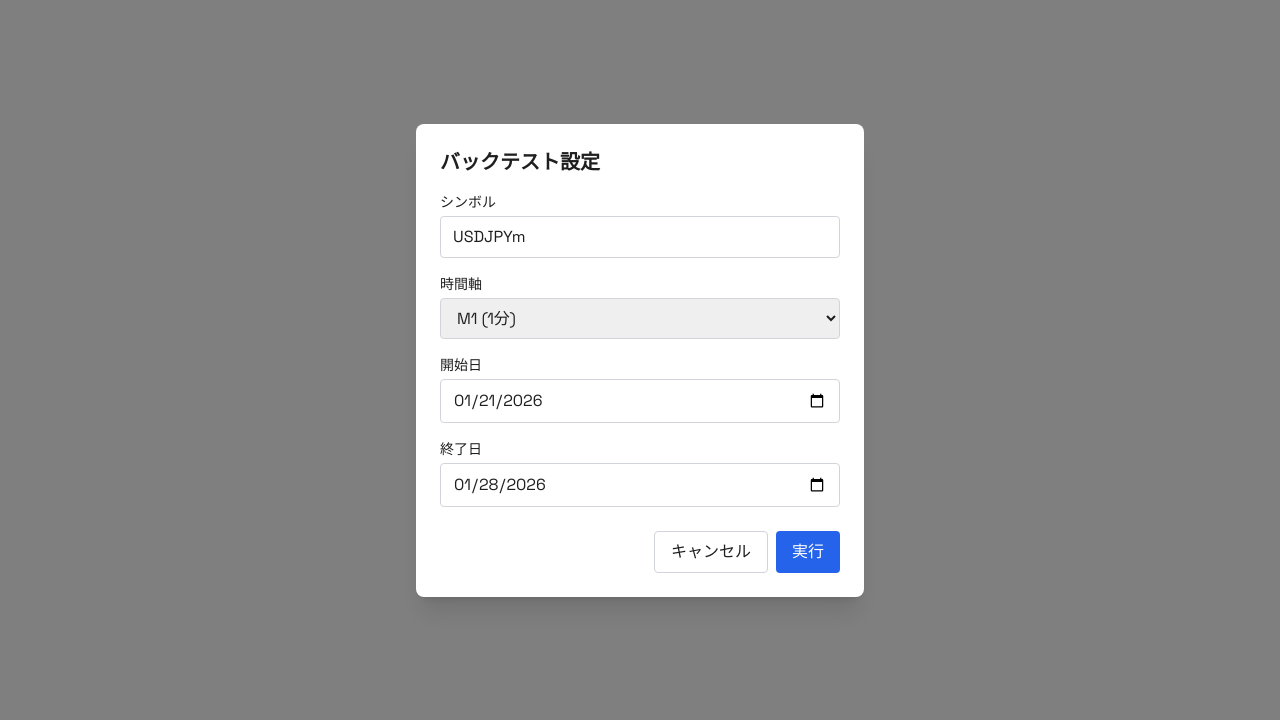
Test case: BacktestConfigDialog › Error Handling › should clear errors on successful submit
# First, trigger an error
Step 1. Clear the field labelled "シンボル" → (640, 236), box 440,216 -> 840,258
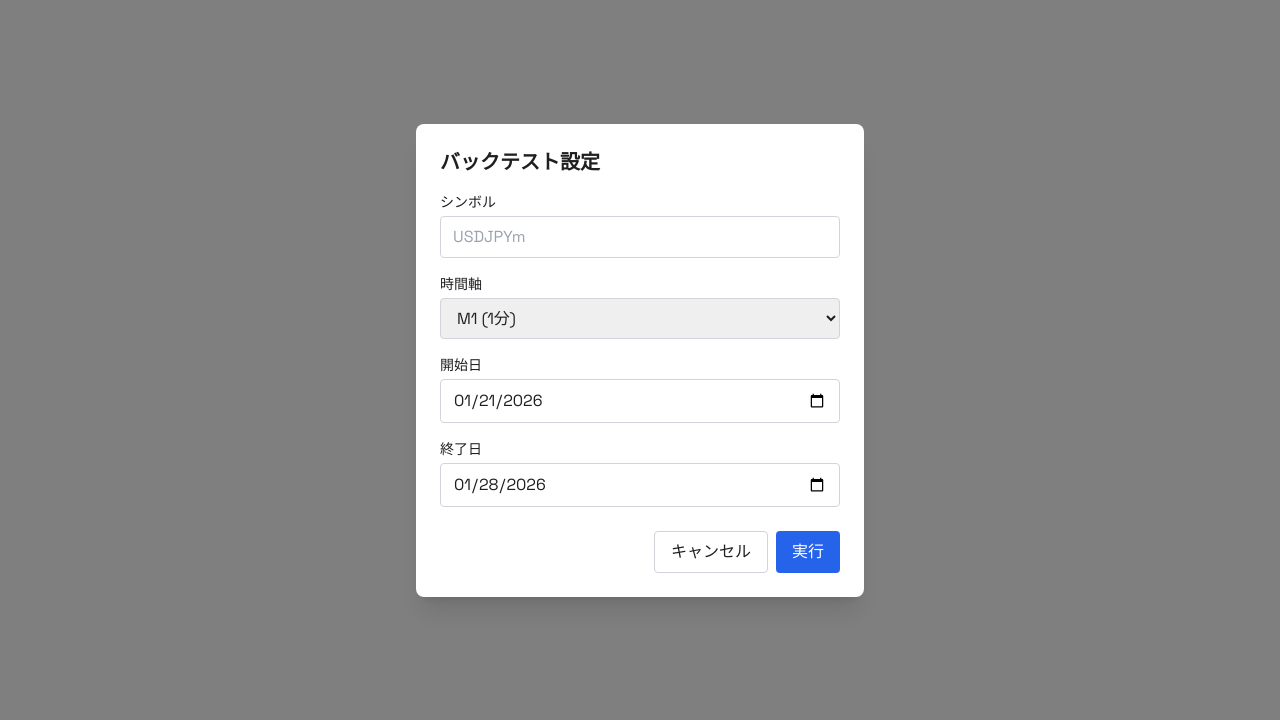
Step 2. Click the button "実行" → (808, 552), box 776,530 -> 840,572
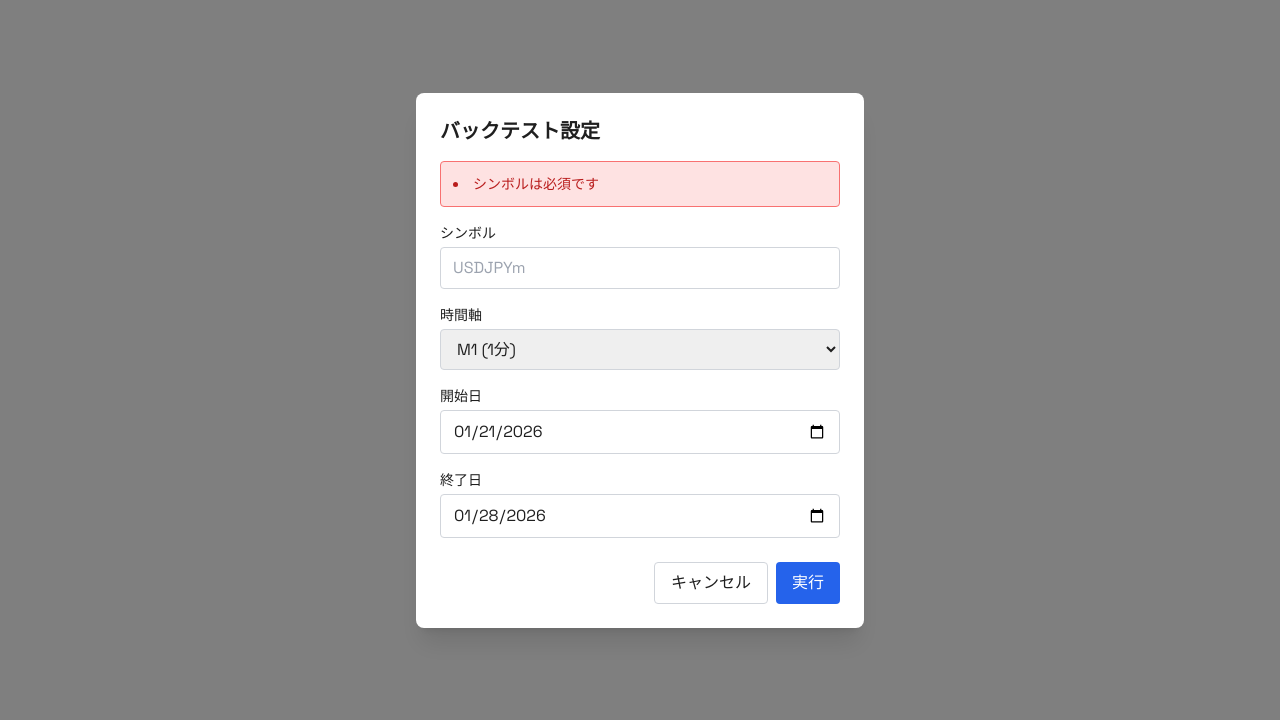
Now the list item "シンボルは必須です" is shown, box 473,174 -> 599,192
# Fix the error and submit again
Step 3. Type "USDJPY" into the field labelled "シンボル" → (640, 268), box 440,246 -> 840,288
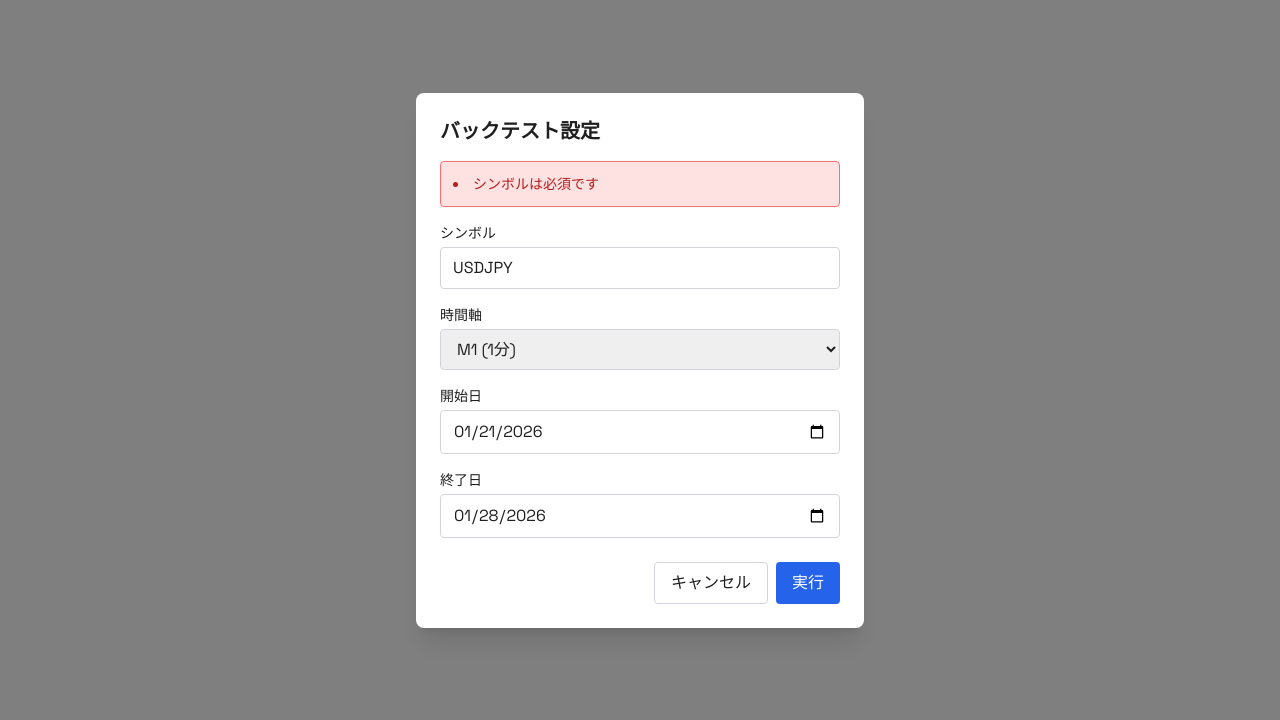
Step 4. Click the button "実行" → (808, 582), box 776,562 -> 840,604
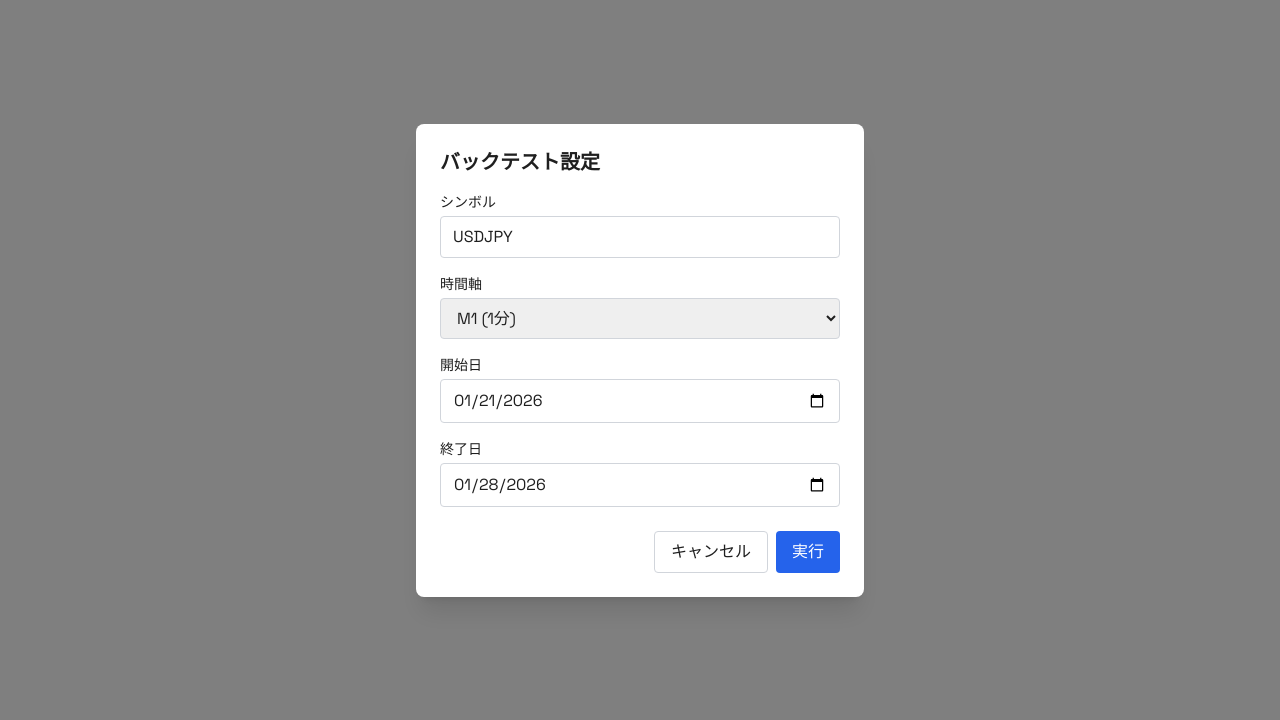
Now the list item "シンボルは必須です" is gone
